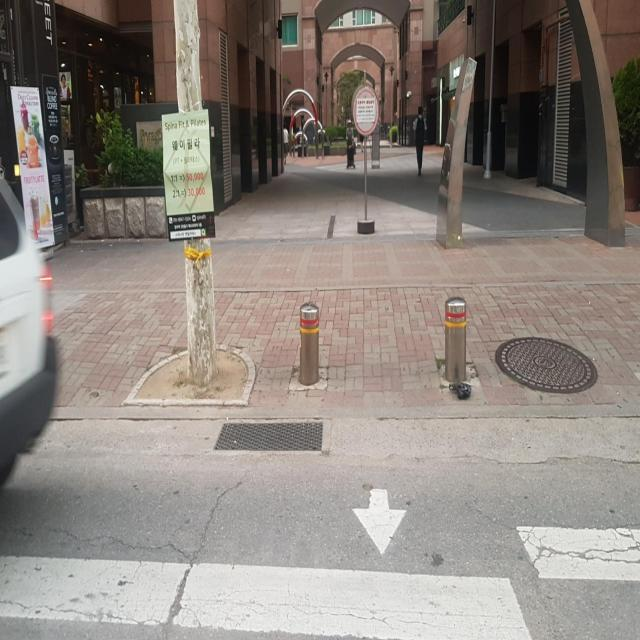횡단보도: (0, 483, 639, 640)
